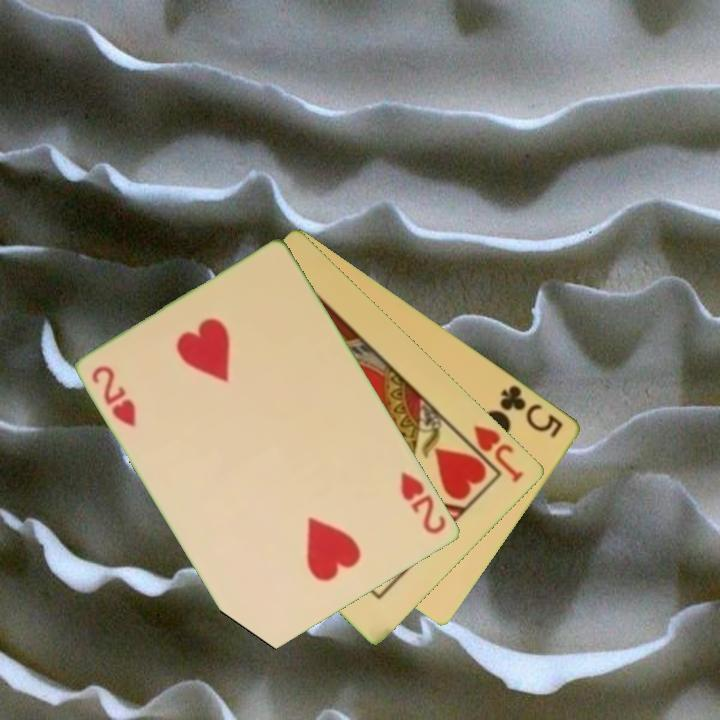2h: (397, 468, 450, 538), (88, 362, 140, 430)
5c: (496, 381, 567, 441)
Jh: (455, 421, 527, 486)
